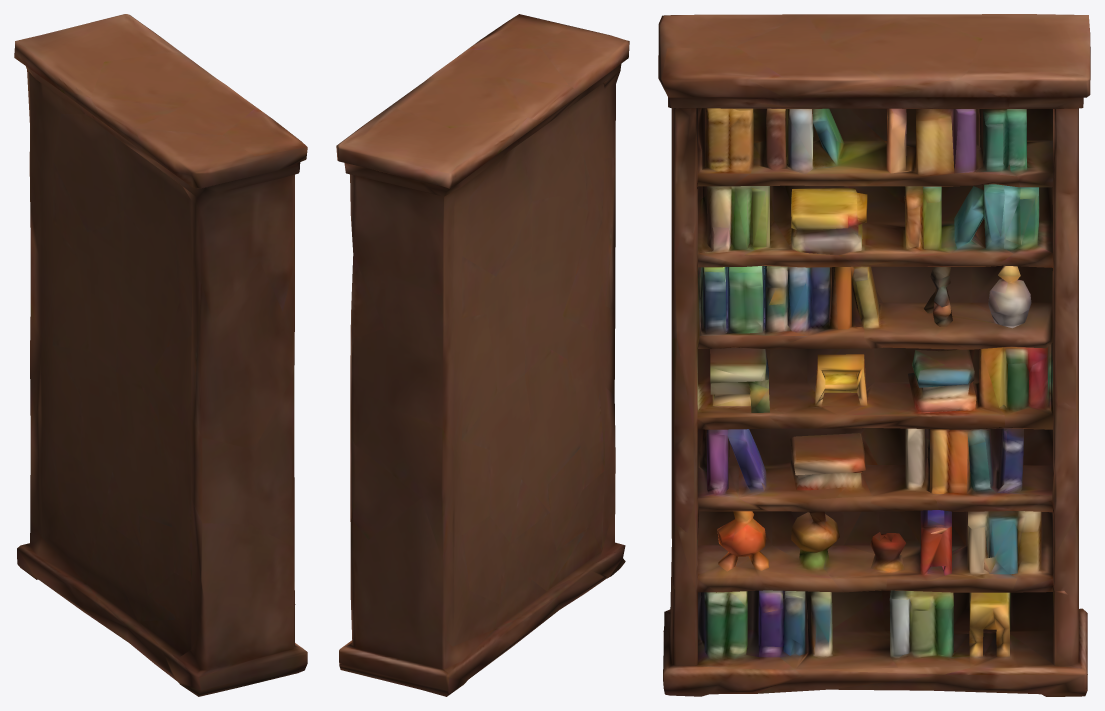
File: bookshelf.glb
3 views of the same model, side by side, from view 1: azimuth 30°, elevation 25°; view 2: azimuth 150°, elevation 25°; view 3: azimuth 270°, elevation 25° (orthographic). The views are drawn at different scales.
Parts seen in each view (by area): view 1: tripo_node_b0142485-d591-450f-bec9-318b5aa88f81; view 2: tripo_node_b0142485-d591-450f-bec9-318b5aa88f81; view 3: tripo_node_b0142485-d591-450f-bec9-318b5aa88f81.
Boxes of the visible parts, x1,y1,x2,y2 form: tripo_node_b0142485-d591-450f-bec9-318b5aa88f81: [14, 14, 307, 696]; tripo_node_b0142485-d591-450f-bec9-318b5aa88f81: [336, 14, 629, 696]; tripo_node_b0142485-d591-450f-bec9-318b5aa88f81: [658, 14, 1090, 696].
Bounding box in the file's own units: 0.2303 × 1 × 0.6295.
Materials: 1 (1 with a texture image).
